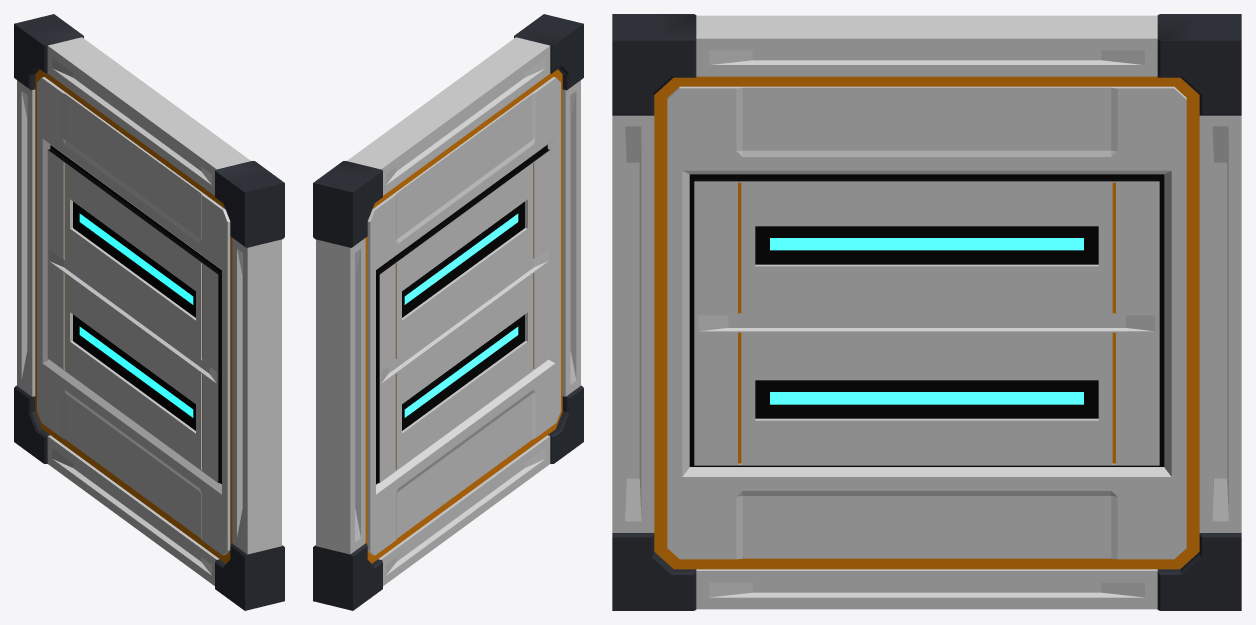
The model's file is SM_Wall_V3.glb.
3 views of the same model, side by side, from view 1: azimuth 30°, elevation 25°; view 2: azimuth 150°, elevation 25°; view 3: azimuth 270°, elevation 25° (orthographic). The views are drawn at different scales.
Visible parts, largest first — view 1: SM_Wall_Cadre.005; view 2: SM_Wall_Cadre.005; view 3: SM_Wall_Cadre.005.
Part boxes in pixels (x1,y1,x2,y2): SM_Wall_Cadre.005: [14, 14, 284, 610]; SM_Wall_Cadre.005: [313, 14, 583, 610]; SM_Wall_Cadre.005: [612, 14, 1241, 610].
Size of the model in its own units: 0.4 by 4 by 4.
